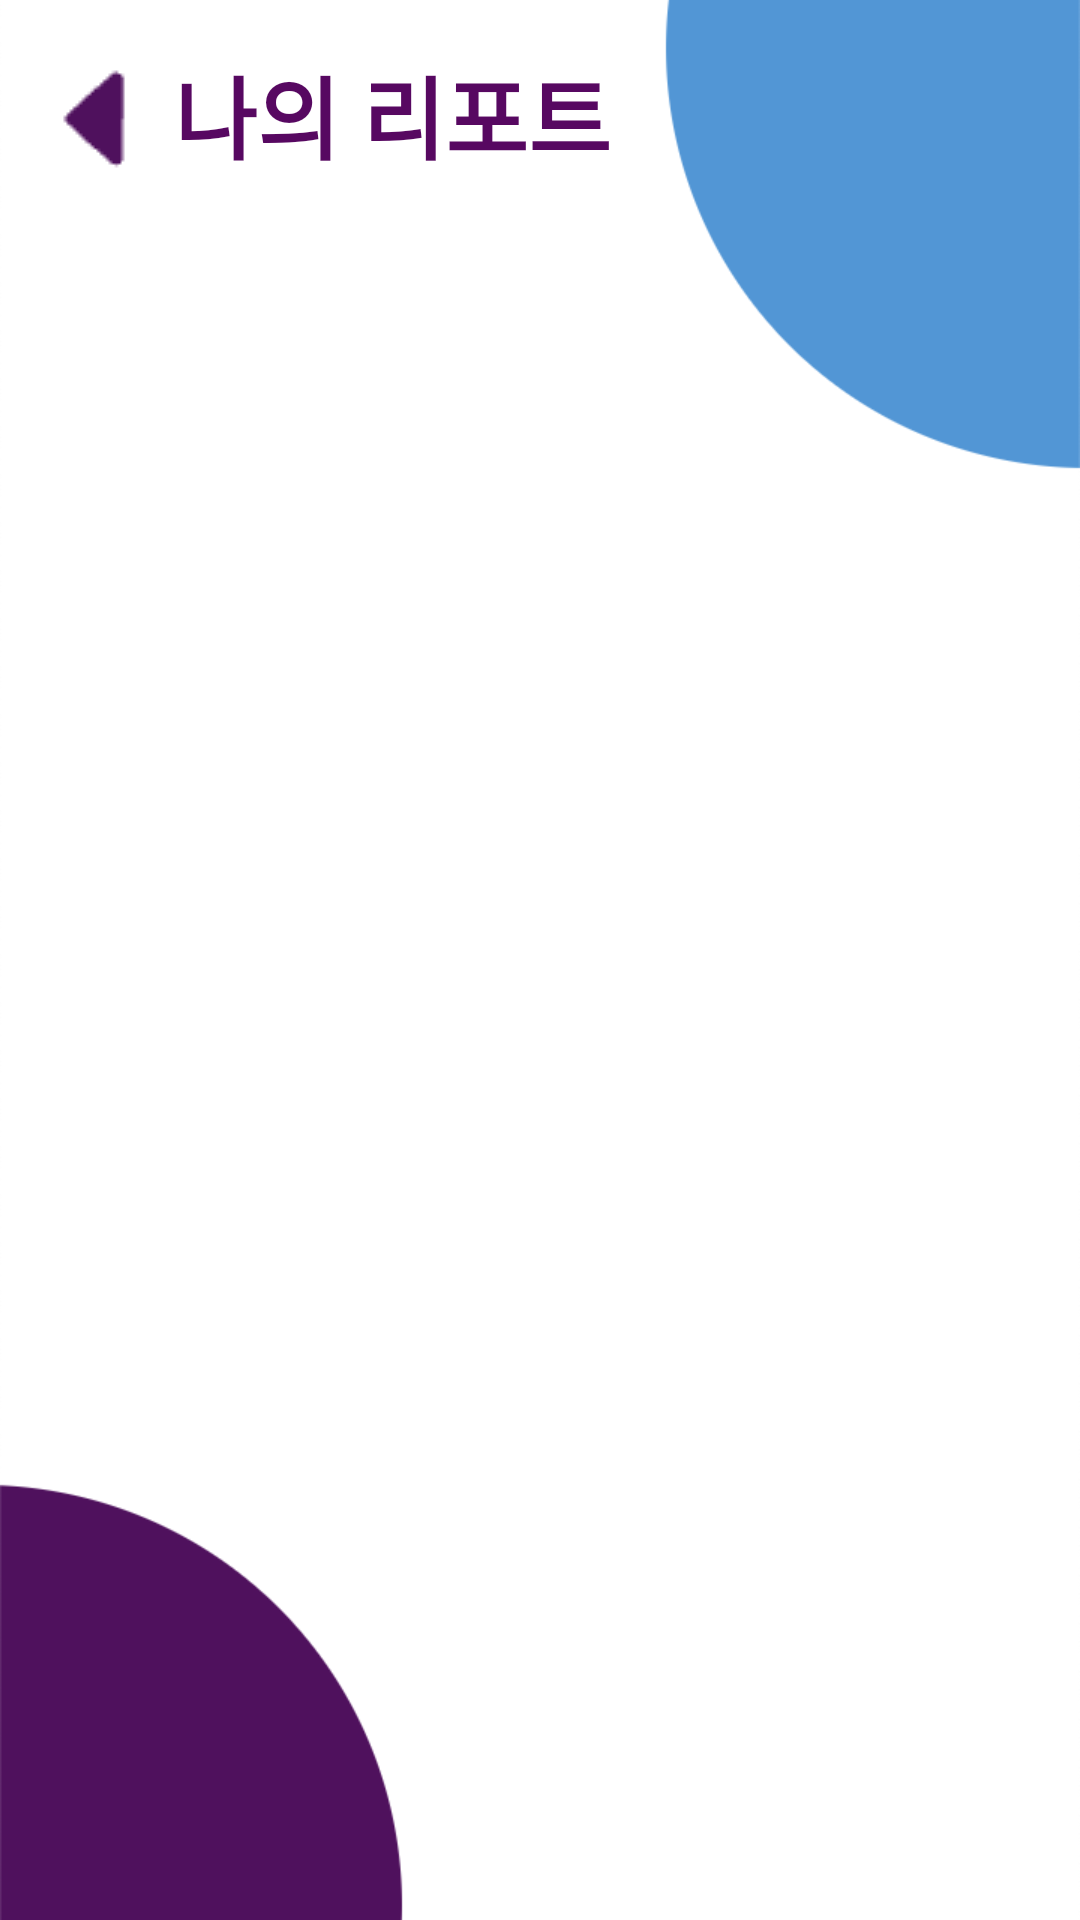

Where to tap for icons on this 1080 x 1920 app screen, as (x=x, y=y):
previous: (x=94, y=118)
